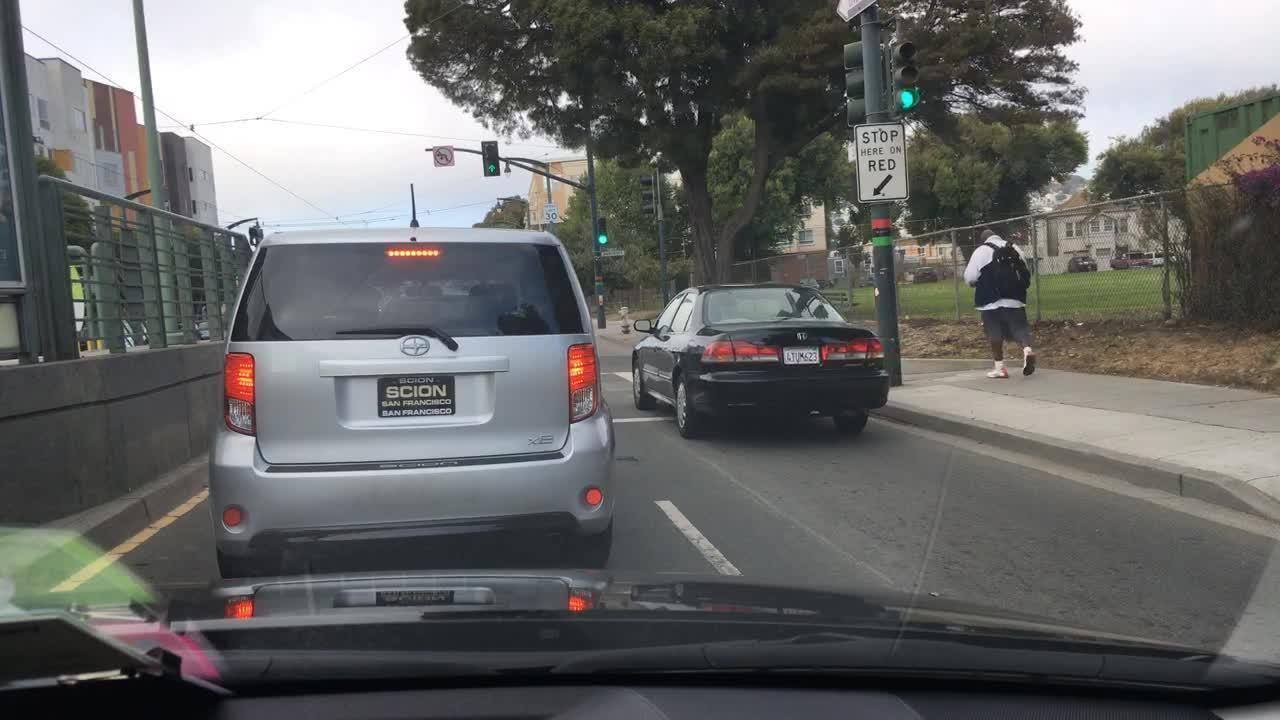Honda: (791, 325, 813, 346)
